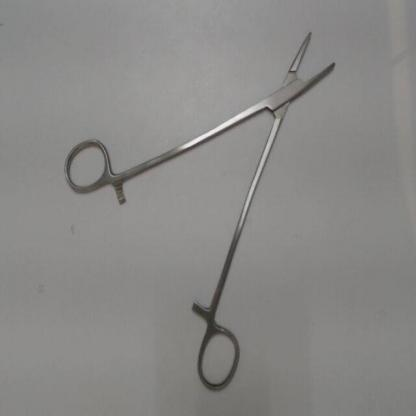8 Mayo Needle Holder: (58, 21, 352, 399)
